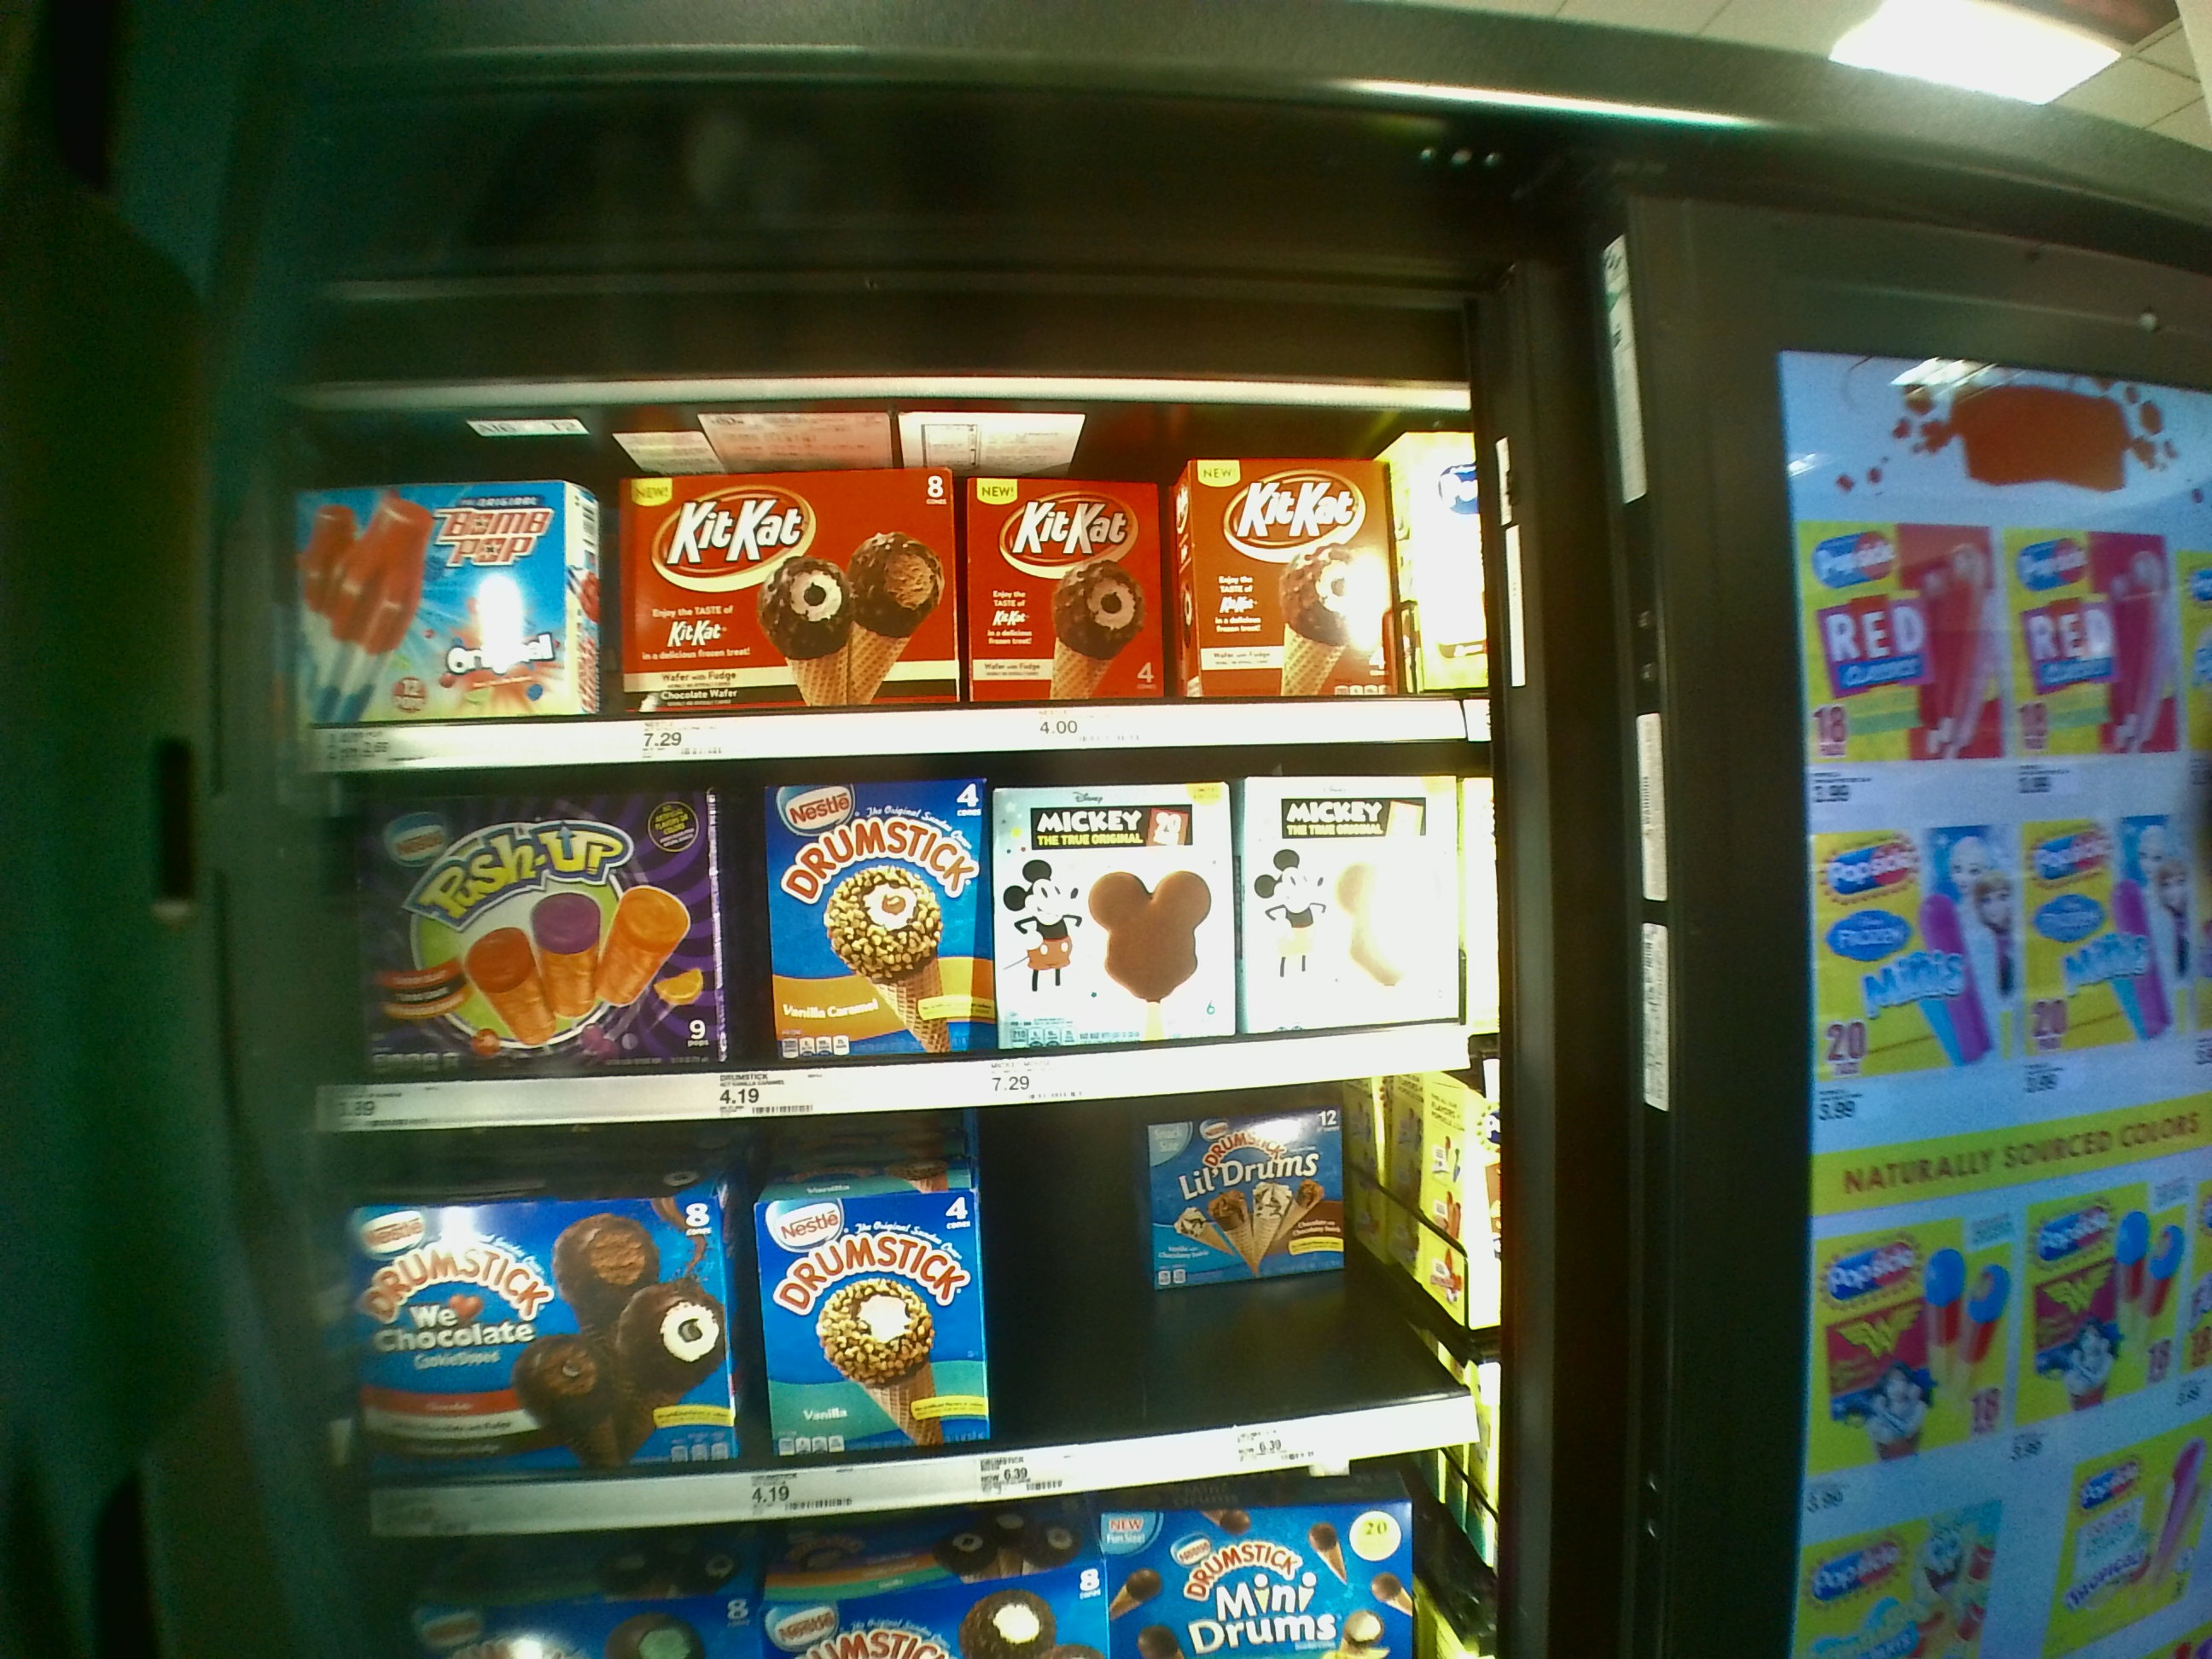shelf: (348, 1117, 1510, 1497), (291, 408, 1501, 770), (320, 772, 1491, 1114)
